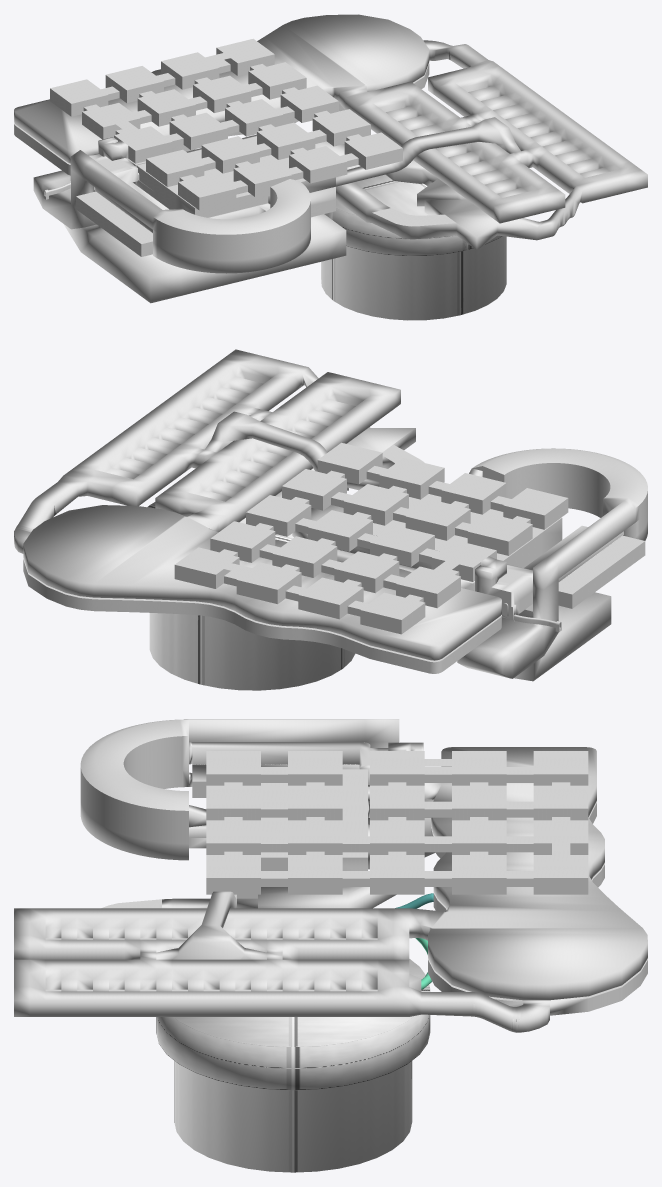
File: wwPalace_floor0.fbx
3 renders of one model, top to bottom at view 1: azimuth 30°, elevation 25°; view 2: azimuth 150°, elevation 25°; view 3: azimuth 270°, elevation 25°, orthographic. The views are drawn at different scales.
Visible parts, largest first — view 1: room1; view 2: room1; view 3: room1.
Boxes of the visible parts, x1,y1,x2,y2 form: room1: [14, 14, 647, 320]; room1: [14, 349, 647, 690]; room1: [14, 719, 647, 1172].
Size of the model in its own units: 1814 by 1742 by 668.
